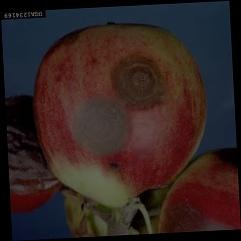rotten apple: (36, 22, 209, 208), (8, 94, 61, 216), (165, 148, 239, 231)
